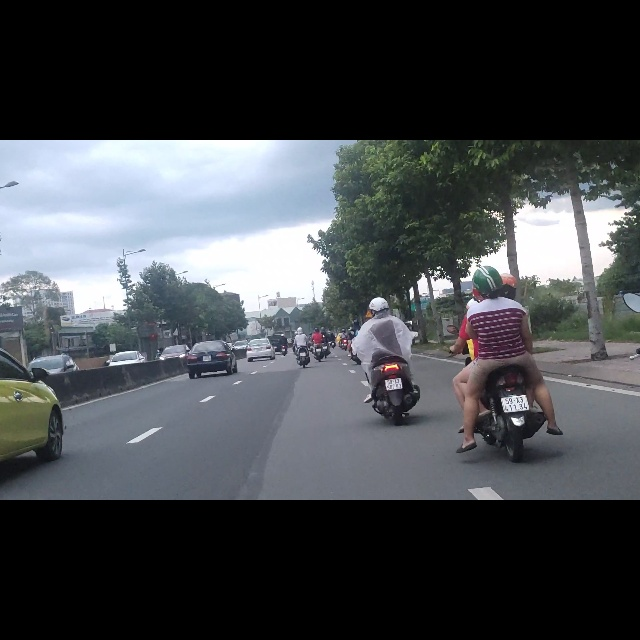bien_nguy_hiem: (364, 302, 373, 316)
